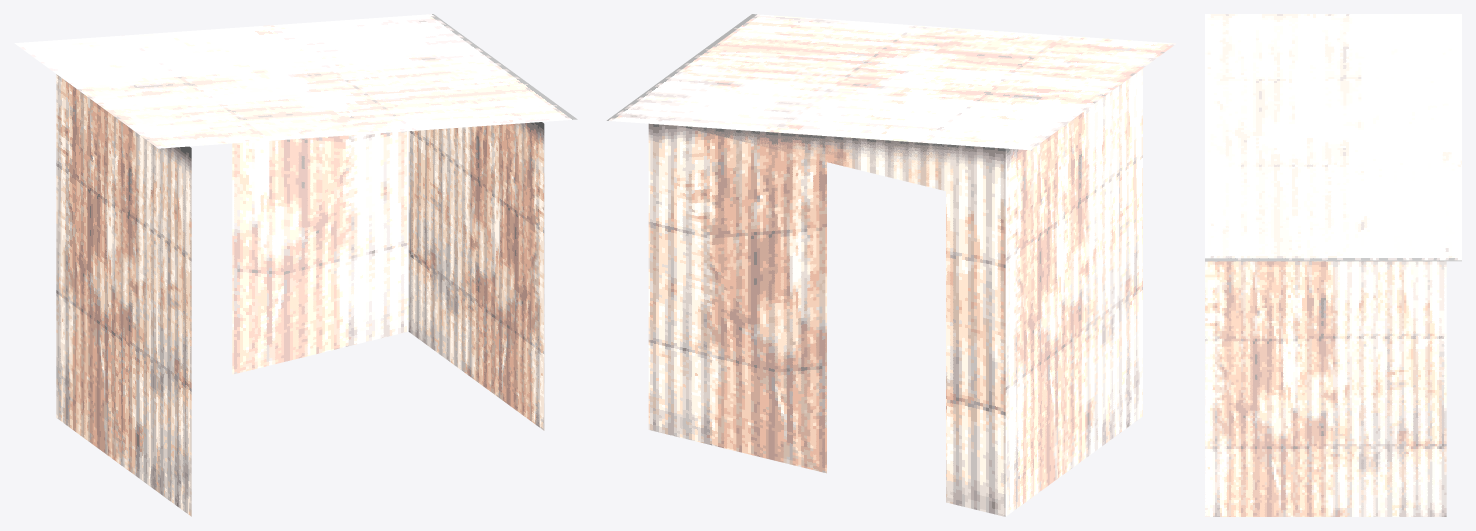
File: leantoA.glb
The picture shows the model from 3 angles, left to right: view 1: azimuth 30°, elevation 25°; view 2: azimuth 150°, elevation 25°; view 3: azimuth 270°, elevation 25°; orthographic projection. The views are drawn at different scales.
Parts seen in each view (by area): view 1: SketchUp; view 2: SketchUp; view 3: SketchUp.
Part boxes in pixels (<box>): SketchUp: <box>14,14,577,516</box>; SketchUp: <box>606,14,1175,516</box>; SketchUp: <box>1205,14,1461,516</box>.
Bounding box in the file's own units: 3.57 × 3.06 × 2.12.
